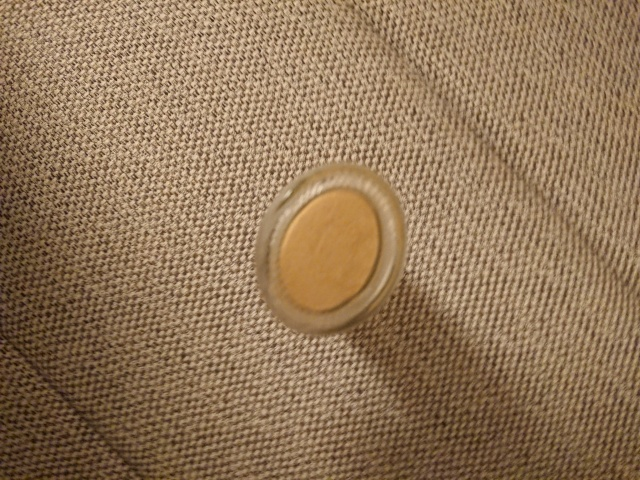Kotanyi Garlic Granules 70g: (251, 160, 410, 340)
